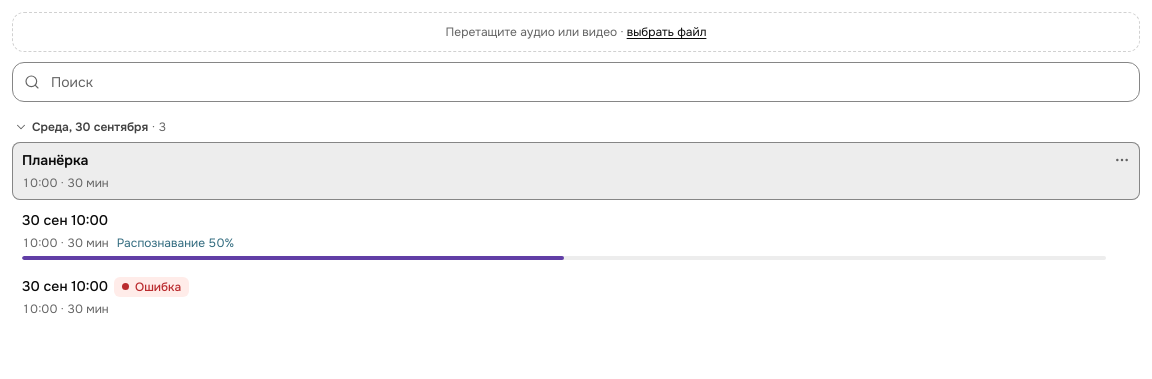
Test: правая кнопка открывает то же меню; выгрузка в базу знаний сообщает путь
Right-click the list item "Планёрка" at (576, 171), box [12, 142, 1140, 200]
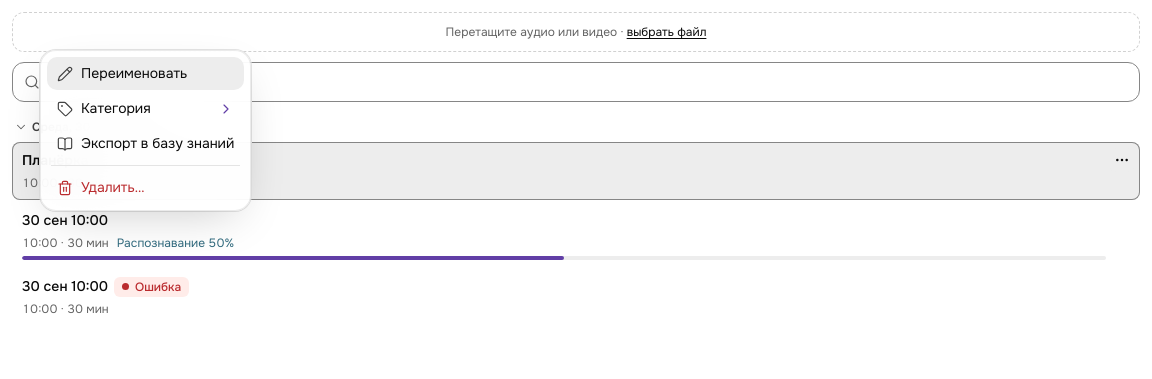
Click the menu item "Экспорт в базу знаний" at (146, 144), box [47, 127, 244, 160]
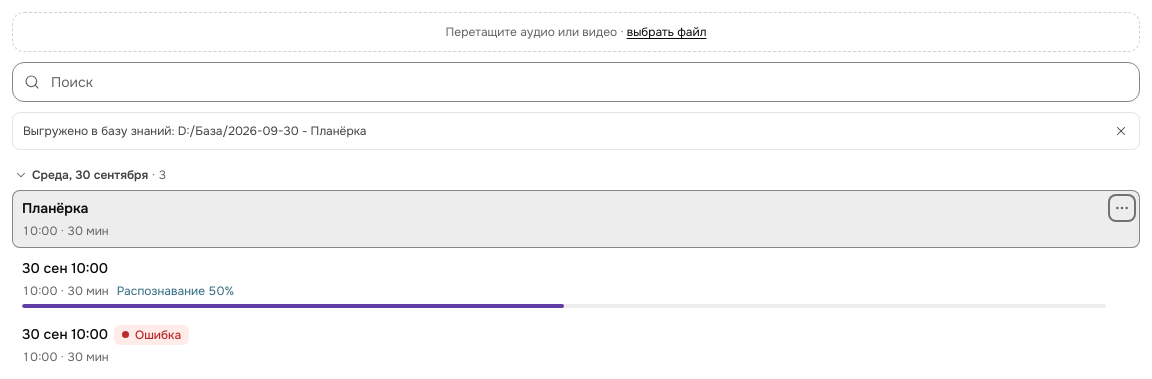
Check: the message reads "Выгружено в базу знаний: D:/База/2026-09-30 - Планёрка", box [23, 123, 366, 139]
